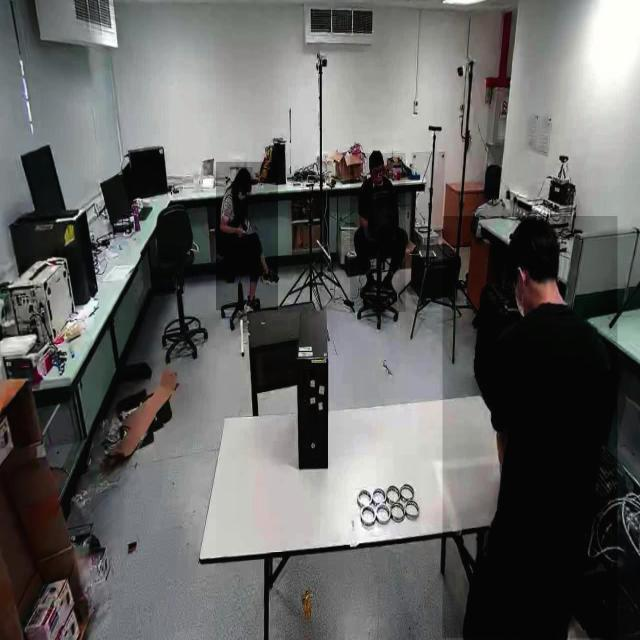face_nomask: (372, 165, 384, 185)
glasses: (369, 165, 385, 180)
hand_noglove: (235, 225, 248, 238)
head_nohelmet: (508, 216, 560, 260), (235, 167, 252, 184), (369, 150, 385, 164)
person: (442, 216, 618, 639), (216, 162, 278, 311), (350, 153, 406, 313)
shoes: (242, 292, 266, 318), (380, 271, 398, 301), (359, 273, 378, 299), (259, 268, 281, 287)
